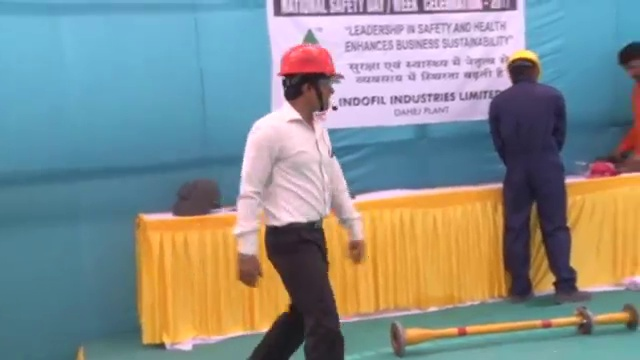helmet: (276, 40, 346, 80), (506, 47, 544, 74)
helmet_off: (616, 40, 640, 83)
helmet_on: (274, 38, 348, 123), (504, 44, 547, 89)
person: (232, 36, 368, 360), (488, 42, 593, 303), (614, 38, 640, 170)
